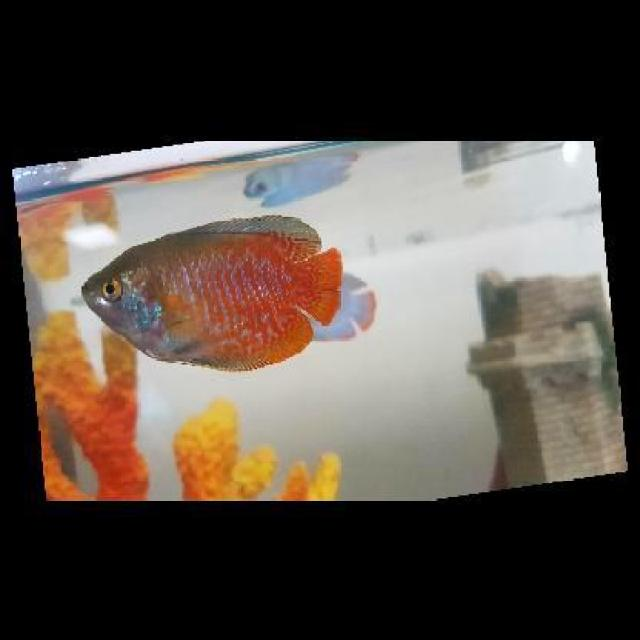Gourami: (77, 216, 340, 375)
